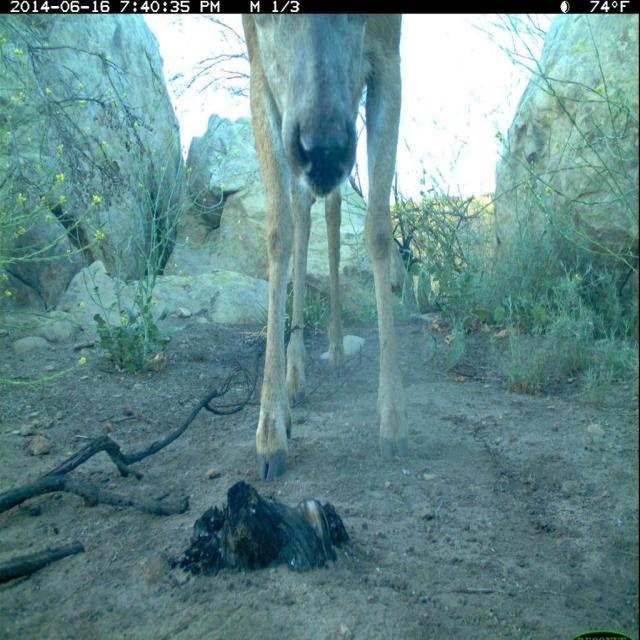deer: (237, 15, 418, 490)
